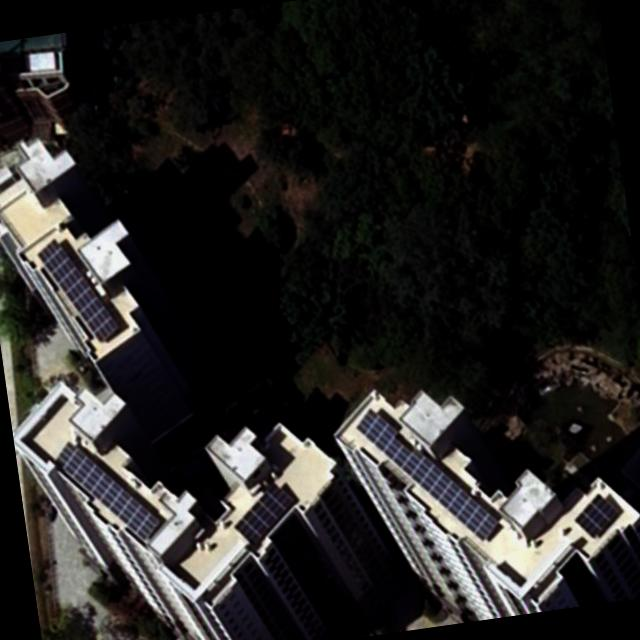solar: (354, 392, 507, 558), (49, 430, 166, 554), (34, 230, 125, 350), (226, 477, 303, 552), (573, 491, 622, 542)
